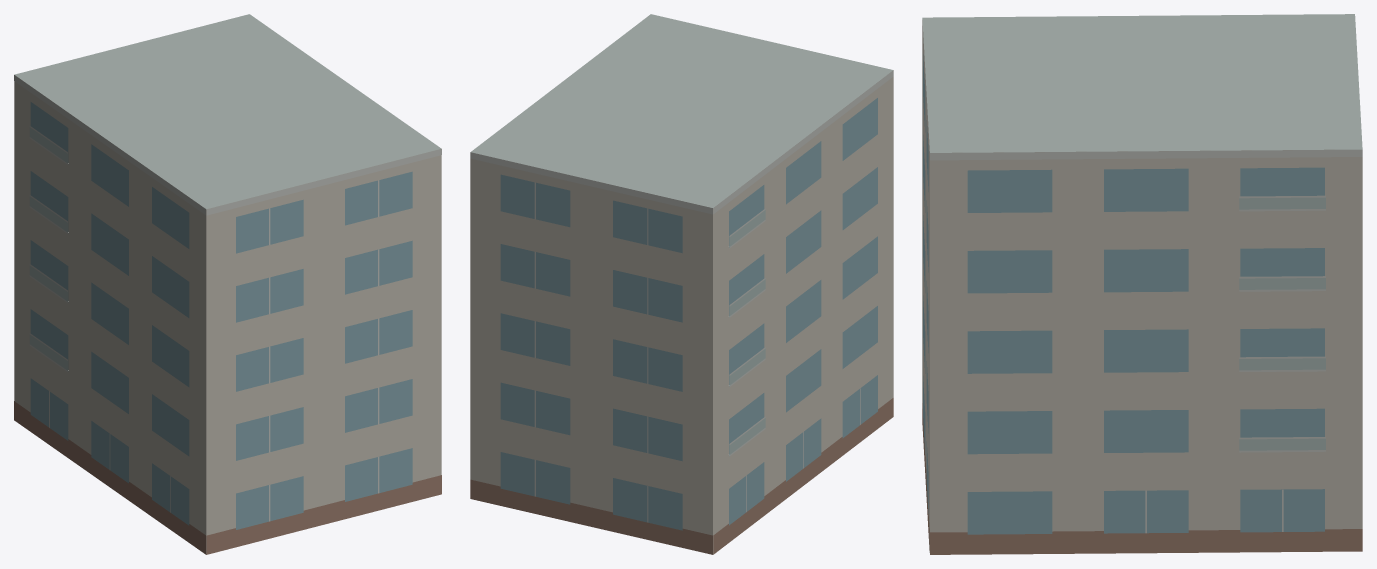
Rendered from survey-upis-32885162.glb.
3 views of the same model, side by side, from view 1: azimuth 30°, elevation 25°; view 2: azimuth 150°, elevation 25°; view 3: azimuth 270°, elevation 25° (orthographic). The views are drawn at different scales.
Visible parts, largest first — view 1: survey-upis-32885162.tmp; view 2: survey-upis-32885162.tmp; view 3: survey-upis-32885162.tmp.
Boxes of the visible parts, x1,y1,x2,y2 form: survey-upis-32885162.tmp: [14, 14, 441, 554]; survey-upis-32885162.tmp: [470, 14, 893, 554]; survey-upis-32885162.tmp: [922, 14, 1362, 554].
Size of the model in its own units: 9.81 by 13.2 by 13.12.
